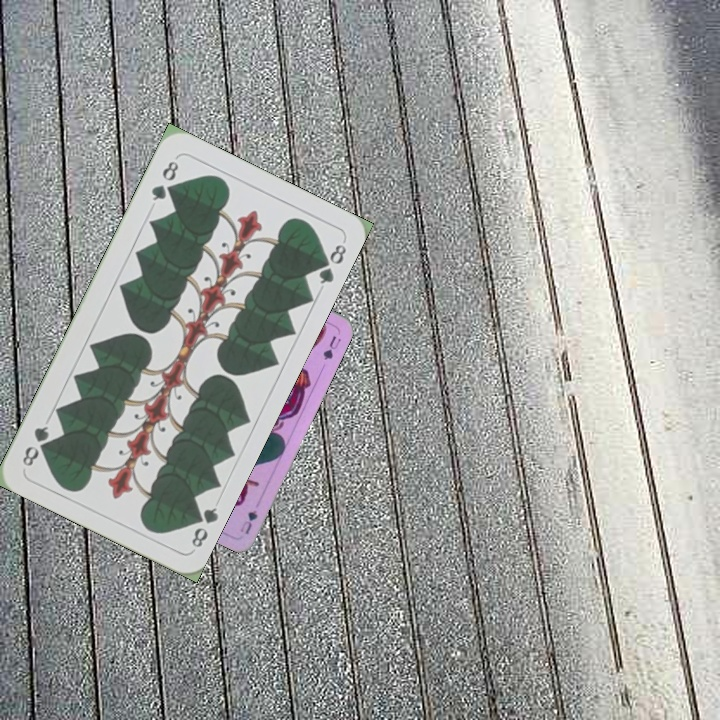G8: (186, 503, 221, 551), (147, 156, 181, 204)
GU: (236, 506, 260, 537)
